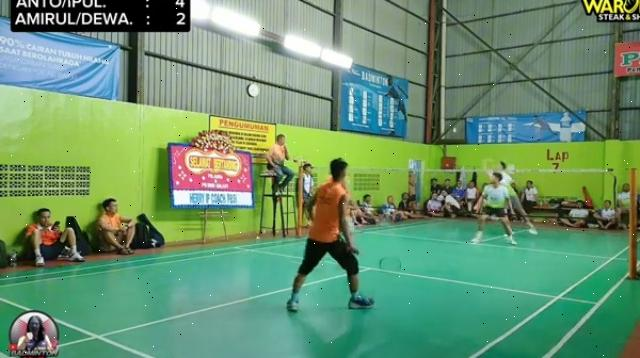Shuttlecock: (452, 126, 458, 134)
